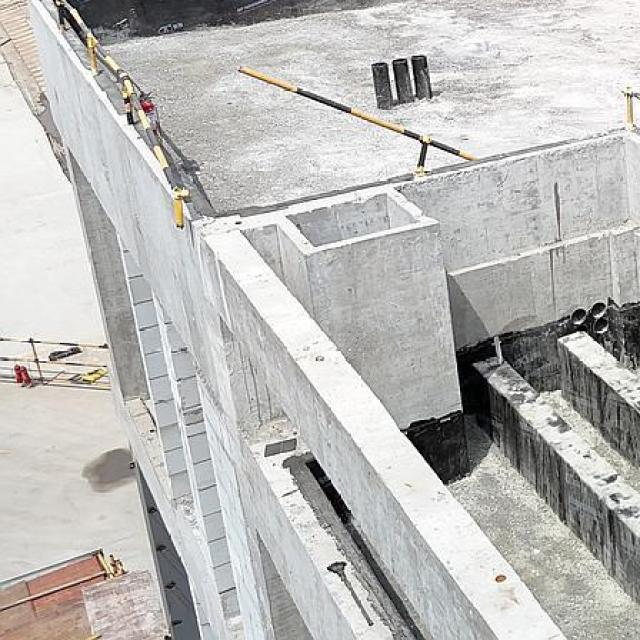edge_guardrail: (53, 0, 190, 231), (238, 64, 479, 177), (620, 84, 640, 124)
